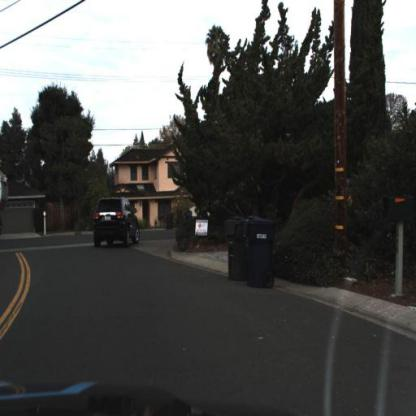car: (89, 195, 149, 254)
truck: (1, 166, 12, 217)
